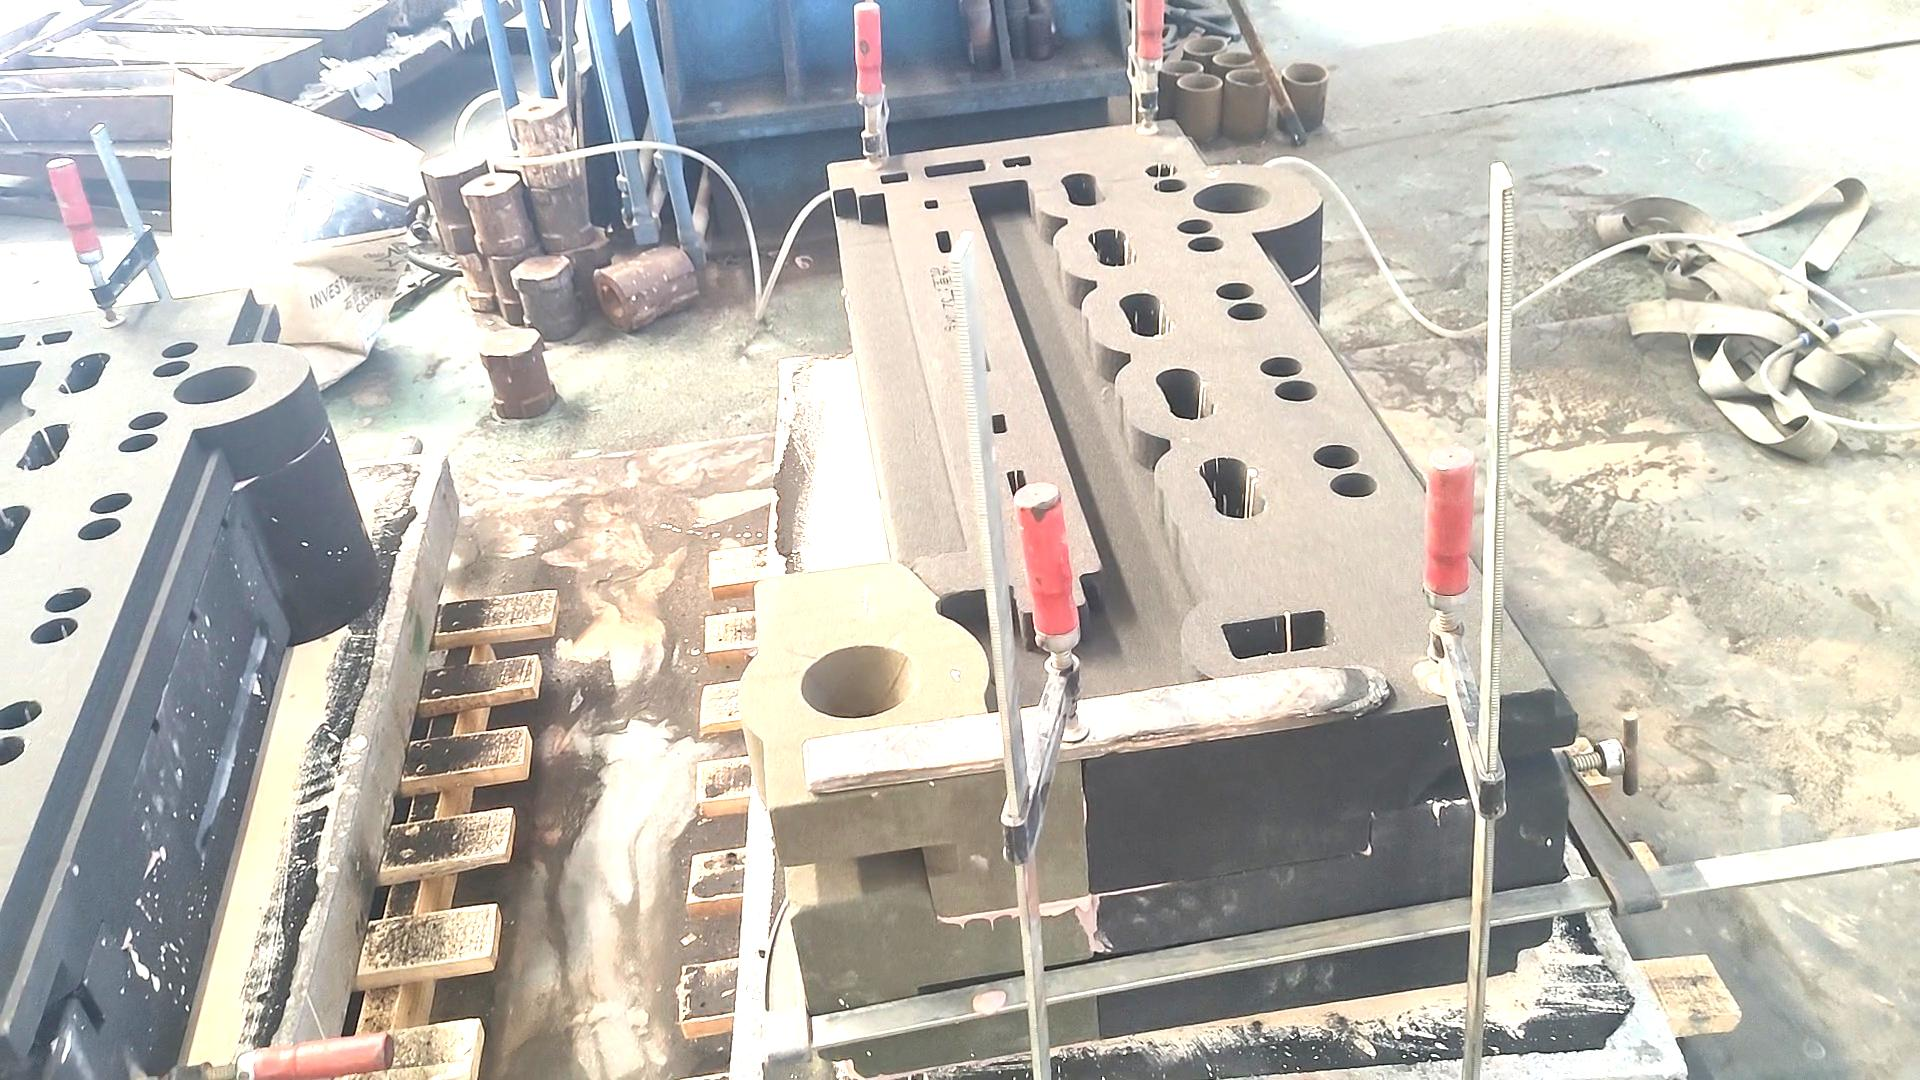pouring hole: (802, 646, 915, 717), (173, 364, 257, 405), (1192, 182, 1273, 214), (1282, 61, 1328, 84), (1226, 67, 1271, 87), (1175, 74, 1222, 92), (1211, 50, 1258, 67), (1156, 58, 1203, 75), (1184, 37, 1226, 54)
